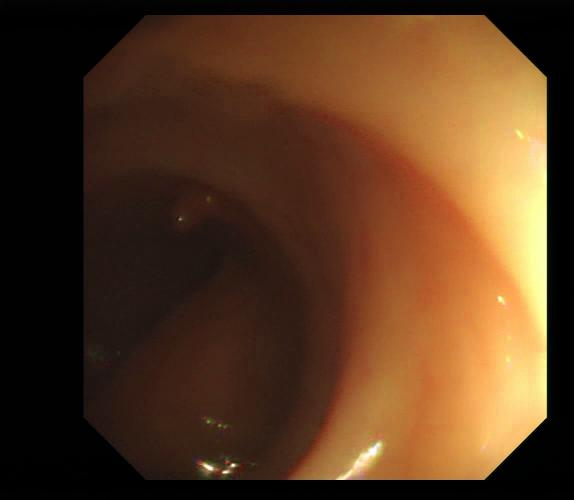polyp: (168, 179, 226, 235)
